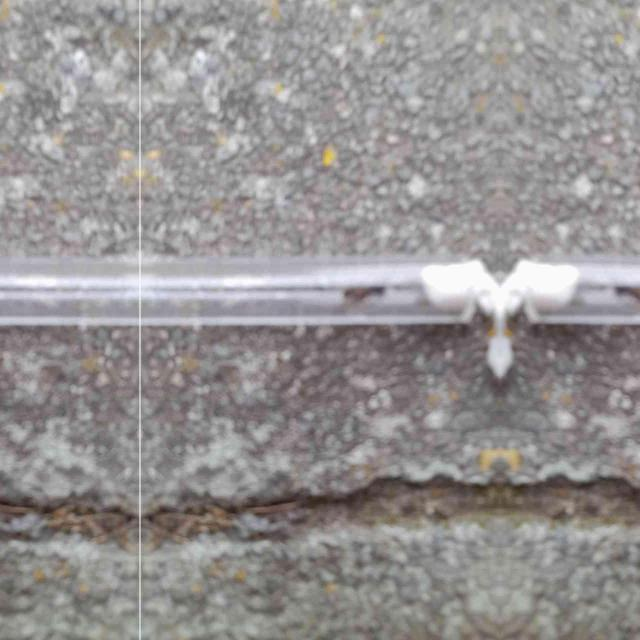Lasius: (343, 276, 385, 302), (614, 274, 640, 302)
